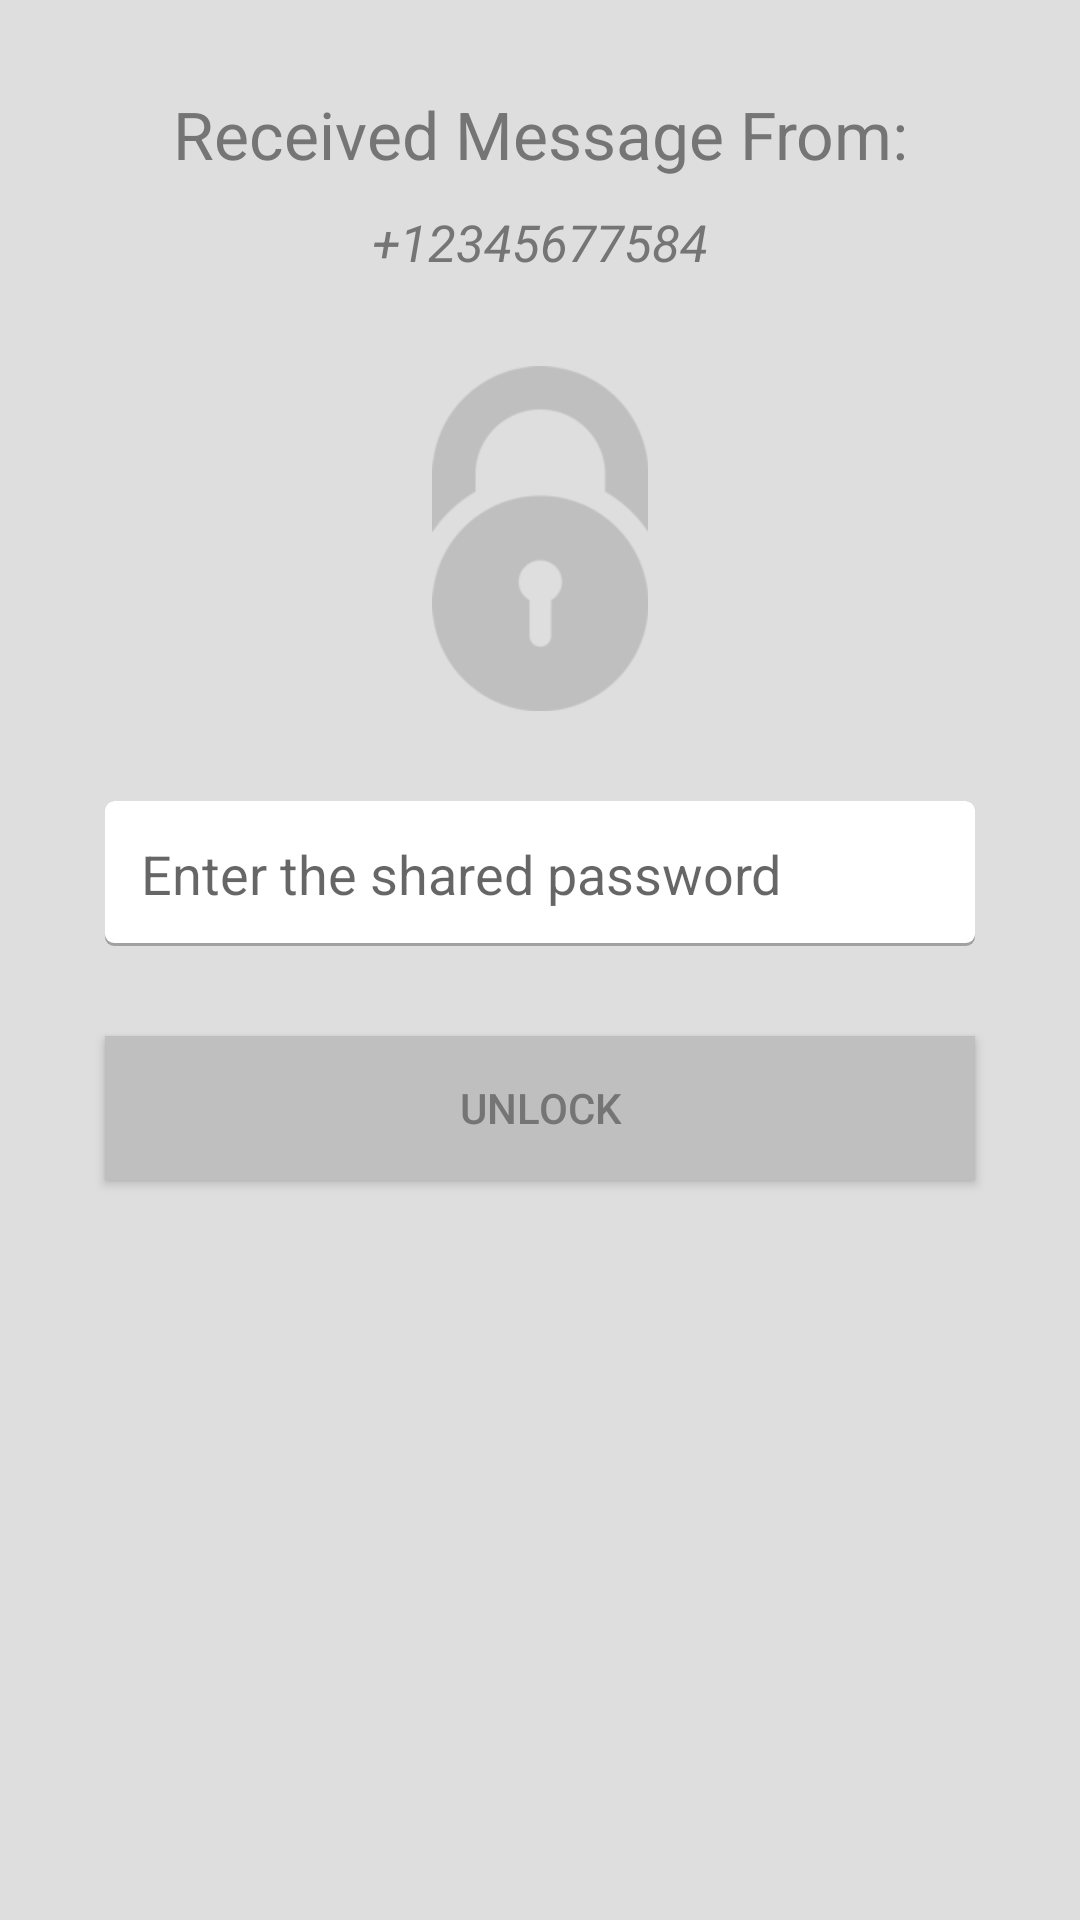

Icons on this 1080*1920 Android screen, each with its box as (x1, y1, x2, y2):
padlock: (432, 366, 648, 711)
